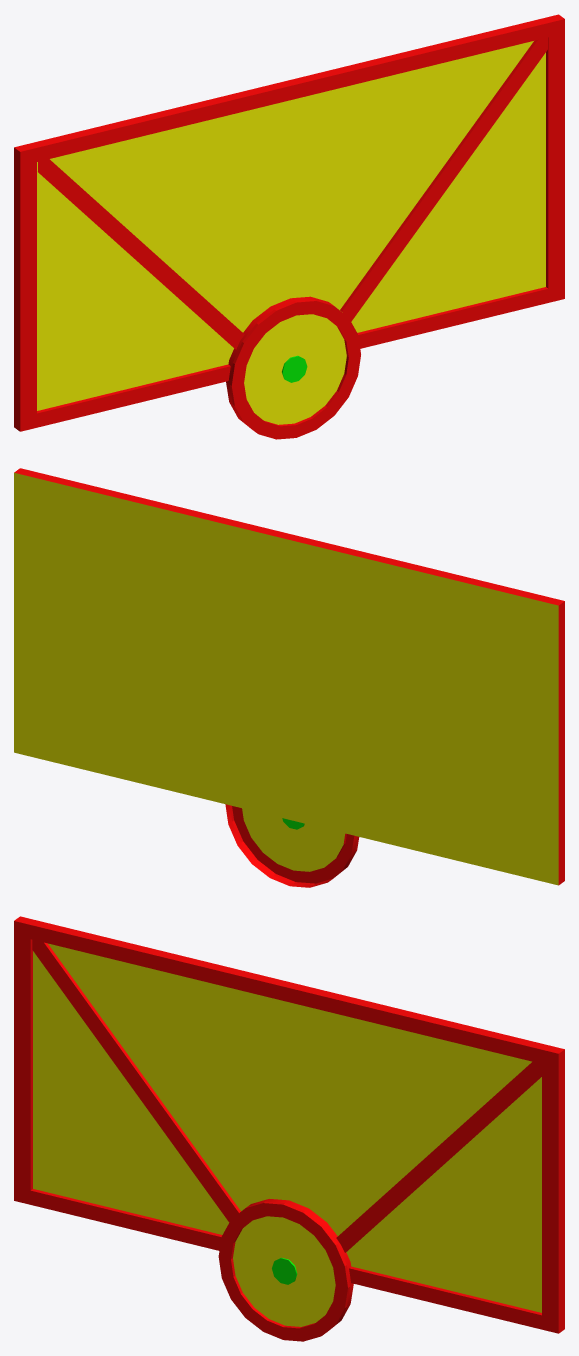
The model's file is Puerta_Arriba.fbx.
3 views of the same model, one above another, from view 1: azimuth 30°, elevation 25°; view 2: azimuth 150°, elevation 25°; view 3: azimuth 330°, elevation 25° (orthographic).
Visible parts, largest first — view 1: Object002; view 2: Object002; view 3: Object002.
Part boxes in pixels (<box>): Object002: <box>14,14,564,439</box>; Object002: <box>14,468,564,887</box>; Object002: <box>14,916,564,1341</box>.
Size of the model in its own units: 114 by 70.25 by 3.52.
